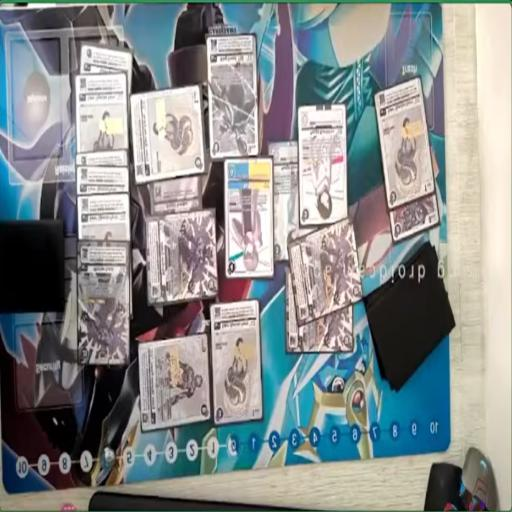card: (370, 73, 432, 204), (128, 82, 207, 179), (288, 220, 360, 326), (284, 263, 357, 362), (210, 298, 264, 430), (76, 240, 132, 366), (138, 331, 210, 429), (144, 210, 218, 304), (208, 33, 261, 163), (222, 156, 276, 283), (297, 103, 346, 222), (75, 68, 128, 156), (268, 139, 301, 258), (78, 192, 130, 246), (79, 42, 130, 89), (150, 173, 201, 219), (392, 195, 441, 241), (76, 165, 128, 196), (75, 149, 129, 172)
